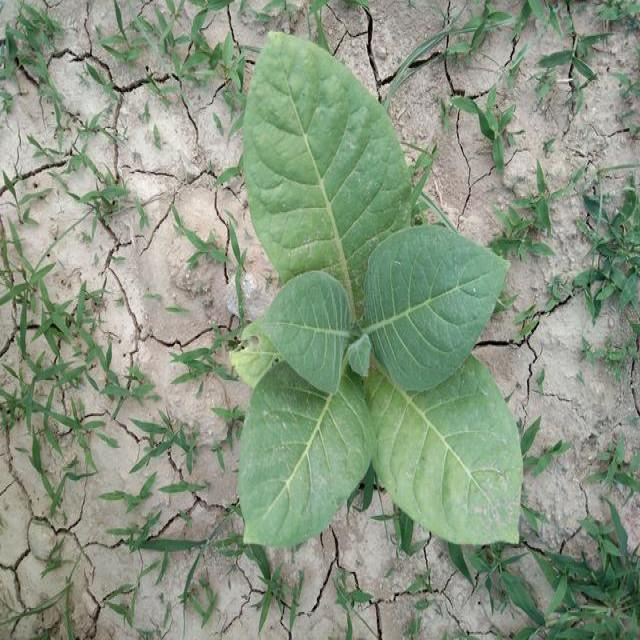crop: (231, 39, 523, 562)
